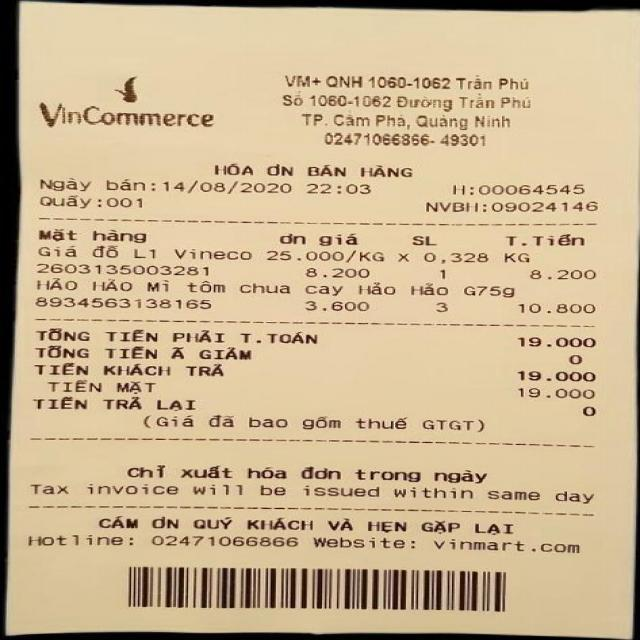Date: (159, 178, 293, 198)
Store_Name: (28, 60, 254, 145)
amount_number: (508, 327, 602, 350)
label_total: (35, 322, 324, 348)
